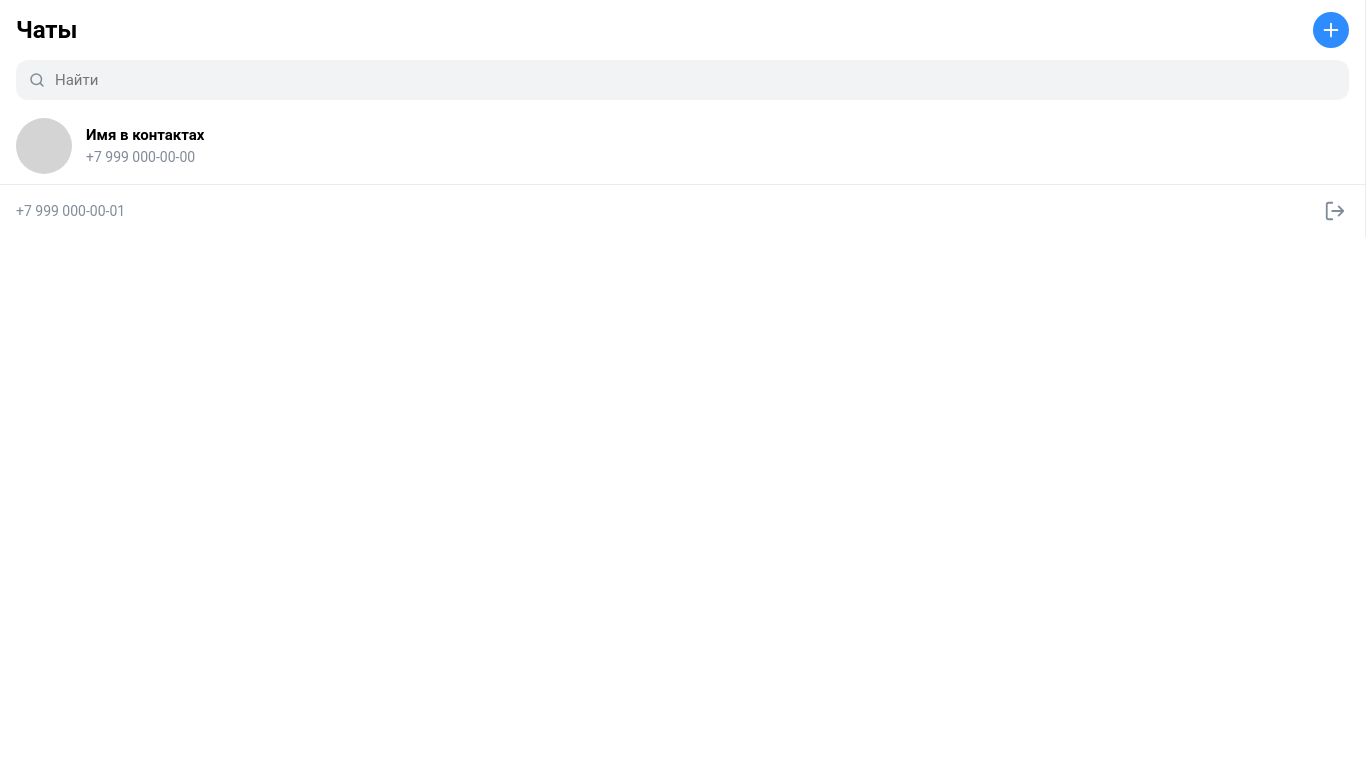
Scenario: Sidebar › stays logged in when logout is not confirmed
What coordinates should you click on to do the following:
click the button named "Выйти"
I would click on:
 (1335, 211)
Its box is x1=1317 y1=193 x2=1353 y2=229.
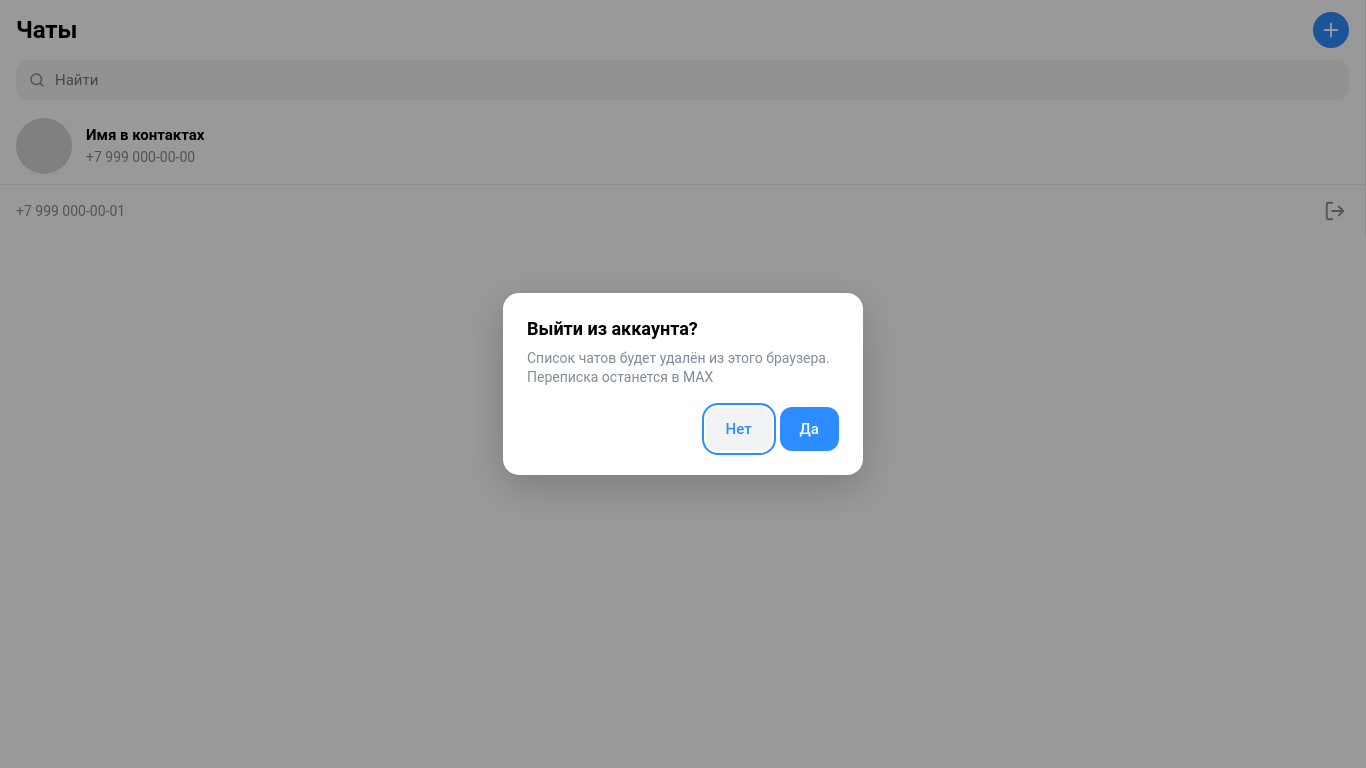
What coordinates should you click on to do the following:
click the button "Нет"
I would click on:
 (739, 429)
Its box is x1=706 y1=407 x2=772 y2=451.
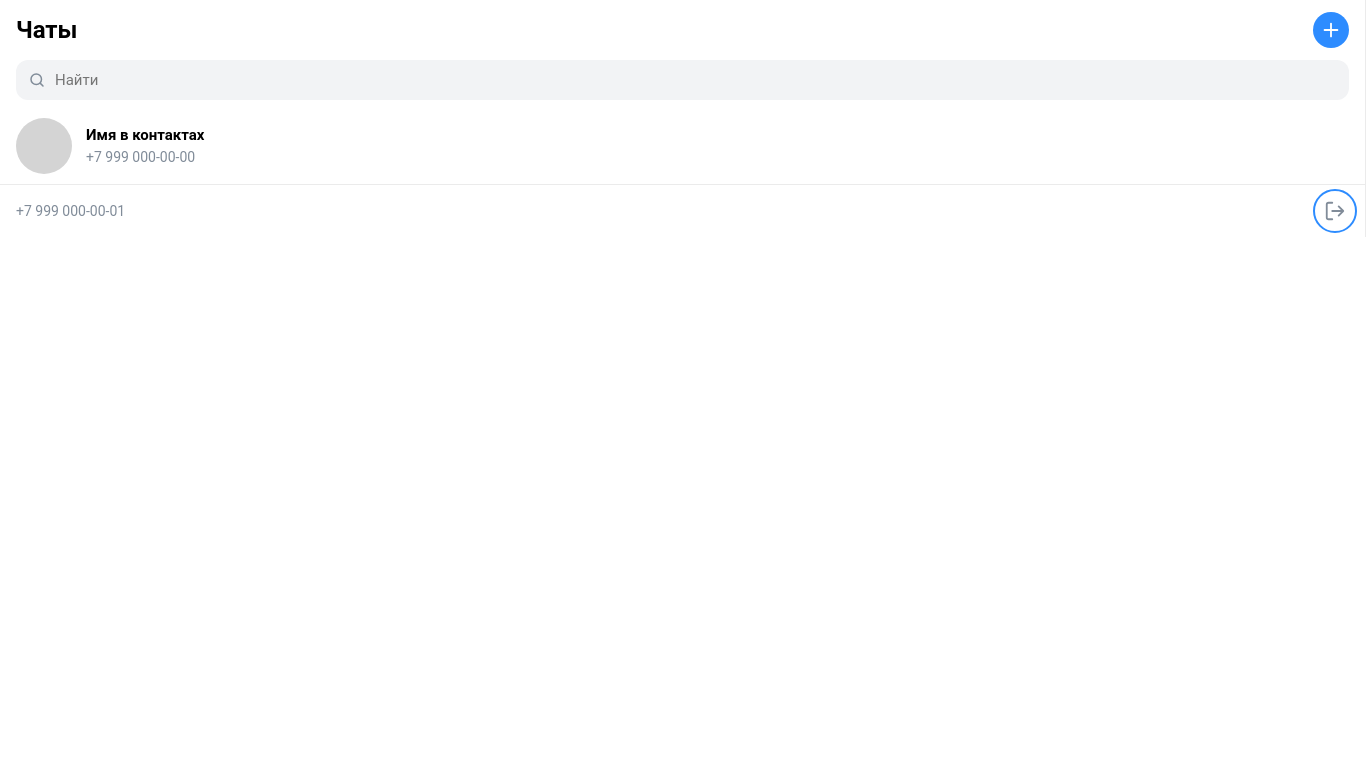
Check: the dialog is gone
